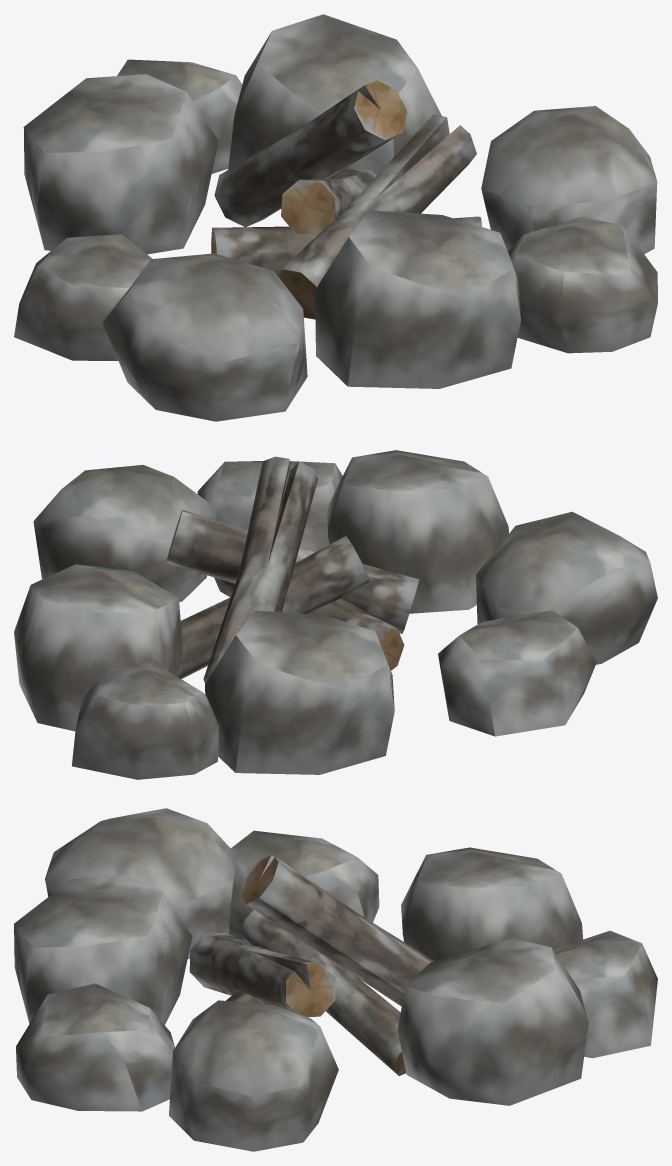
File: snow_a_r02.fbx
3 renders of one model, top to bottom at view 1: azimuth 30°, elevation 25°; view 2: azimuth 150°, elevation 25°; view 3: azimuth 270°, elevation 25°, orthographic. The views are drawn at different scales.
Visible parts, largest first — view 1: snow_a_r02; view 2: snow_a_r02; view 3: snow_a_r02.
Part boxes in pixels (box(x1,y1,x2,y2)): snow_a_r02: box(14, 14, 657, 421); snow_a_r02: box(14, 450, 657, 779); snow_a_r02: box(14, 808, 657, 1151).
Size of the model in its own units: 247 by 81.2 by 252.
